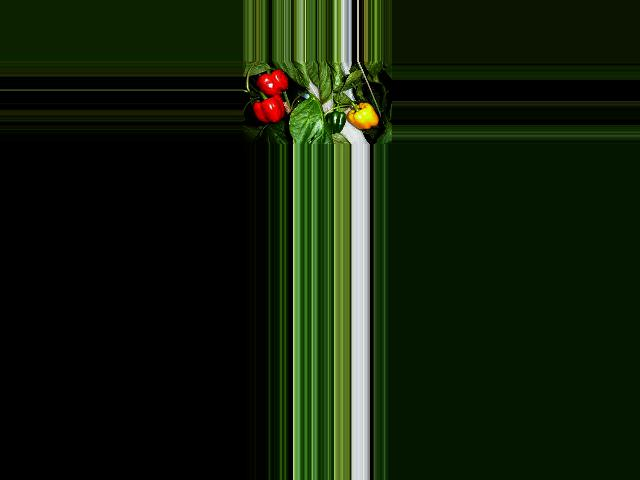bell_pepper: (346, 101, 381, 132)
